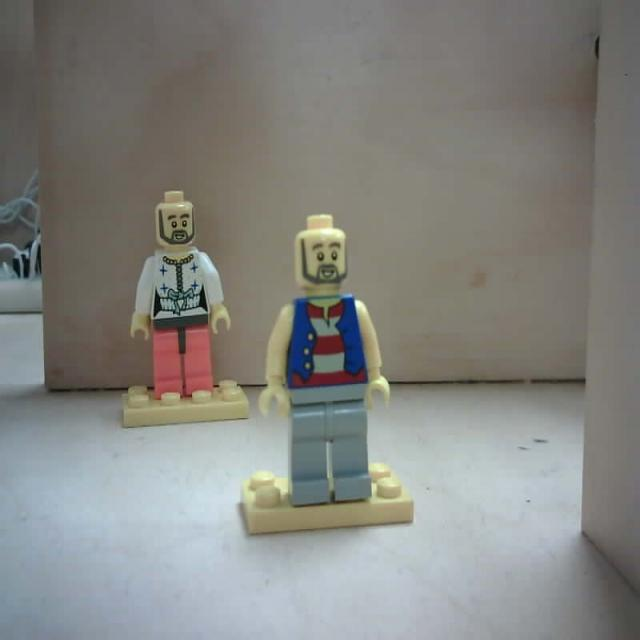Lego-People: (241, 214, 417, 537), (120, 190, 252, 426)
